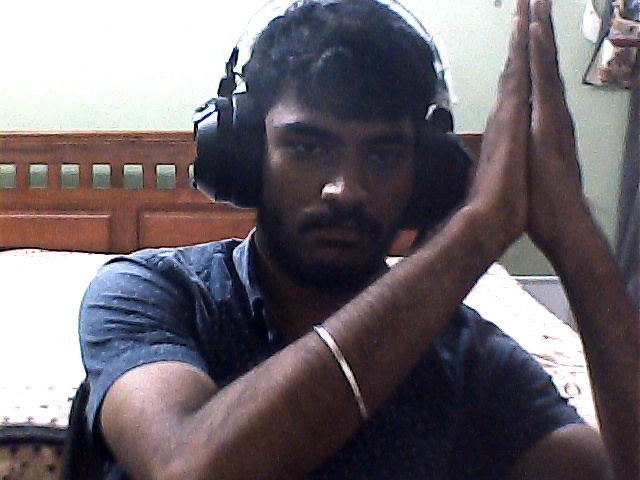Sign: (465, 2, 592, 266)
